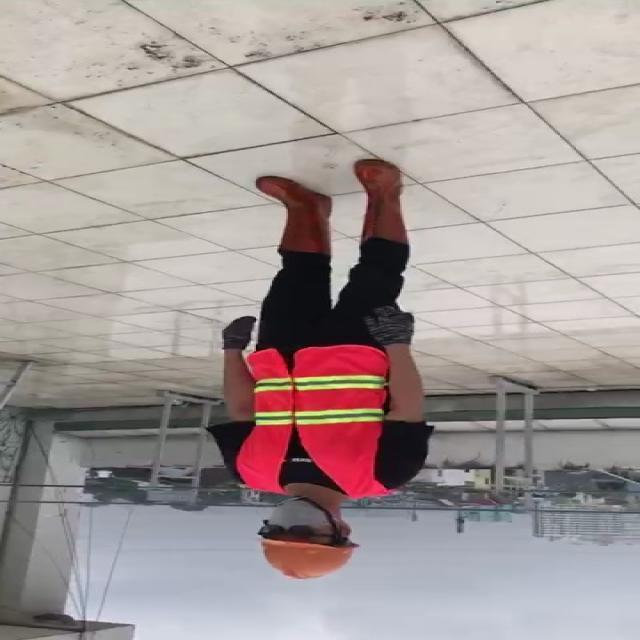gloves: (364, 300, 420, 345), (222, 316, 260, 350)
